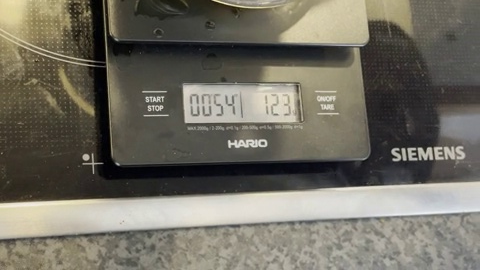display: (183, 82, 300, 122)
